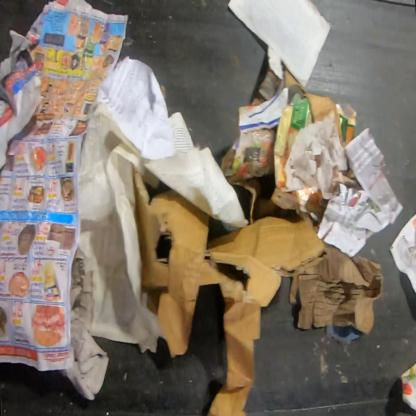cardboard: (134, 170, 328, 415), (291, 246, 383, 333), (289, 87, 340, 132), (334, 103, 358, 148), (285, 65, 303, 89)
